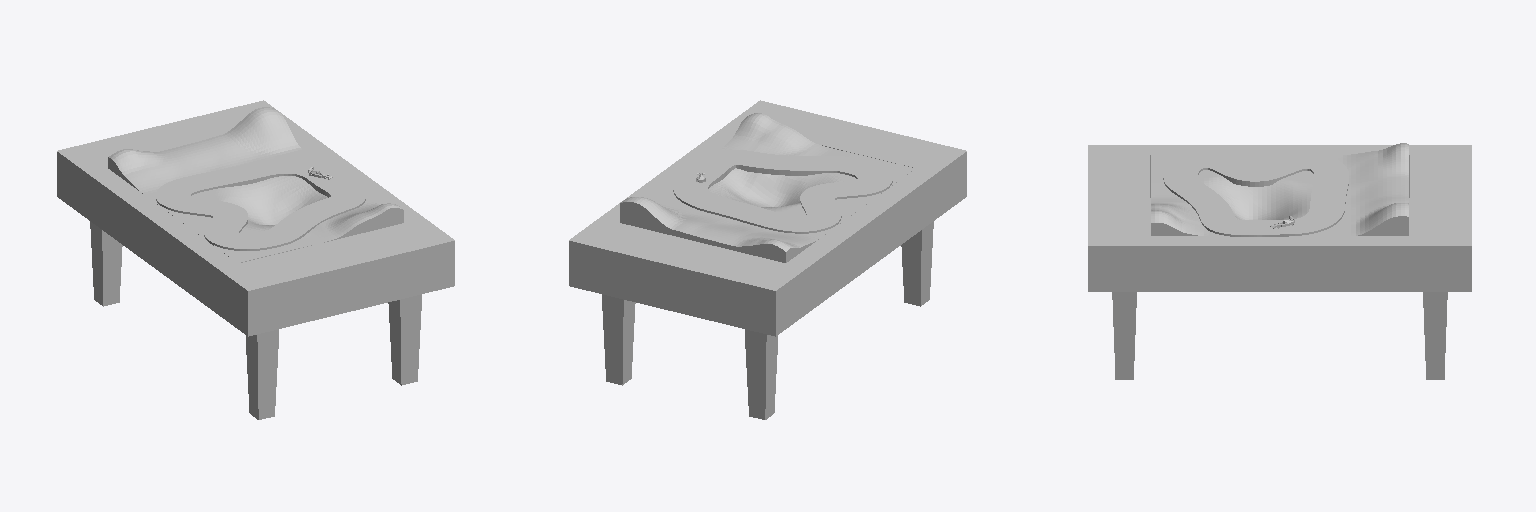
Rendered from NewestTisch21.obj.
The picture shows the model from 3 angles: view 1: azimuth 30°, elevation 25°; view 2: azimuth 150°, elevation 25°; view 3: azimuth 270°, elevation 25°; orthographic projection.
Parts seen in each view (by area): view 1: Tischplatte_wood_table_001, Landschaft_aerial_grass_rock, off, Bein1_wood_table_001, Bein4_wood_table_001.003, Bein3_wood_table_001.002; view 2: Tischplatte_wood_table_001, Landschaft_aerial_grass_rock, off, Bein2_wood_table_001.001, Bein3_wood_table_001.002, Bein4_wood_table_001.003; view 3: Tischplatte_wood_table_001, Landschaft_aerial_grass_rock, off, Bein1_wood_table_001, Bein2_wood_table_001.001.
Boxes of the visible parts, box(x1,y1,x2,y2) form: Tischplatte_wood_table_001: box(57, 100, 454, 336); Landschaft_aerial_grass_rock: box(108, 107, 403, 262); off: box(156, 159, 365, 250); Bein1_wood_table_001: box(388, 294, 421, 385); Bein4_wood_table_001.003: box(246, 329, 278, 419); Bein3_wood_table_001.002: box(90, 221, 122, 306); Tischplatte_wood_table_001: box(569, 100, 966, 336); Landschaft_aerial_grass_rock: box(620, 113, 915, 262); off: box(673, 150, 892, 233); Bein2_wood_table_001.001: box(602, 294, 635, 385); Bein3_wood_table_001.002: box(745, 329, 777, 419); Bein4_wood_table_001.003: box(901, 221, 933, 306); Tischplatte_wood_table_001: box(1088, 145, 1471, 291); Landschaft_aerial_grass_rock: box(1151, 143, 1408, 235); off: box(1163, 153, 1348, 236); Bein1_wood_table_001: box(1112, 292, 1136, 379); Bein2_wood_table_001.001: box(1423, 292, 1447, 379).
Bounding box in the file's own units: 5 × 3.91 × 8.